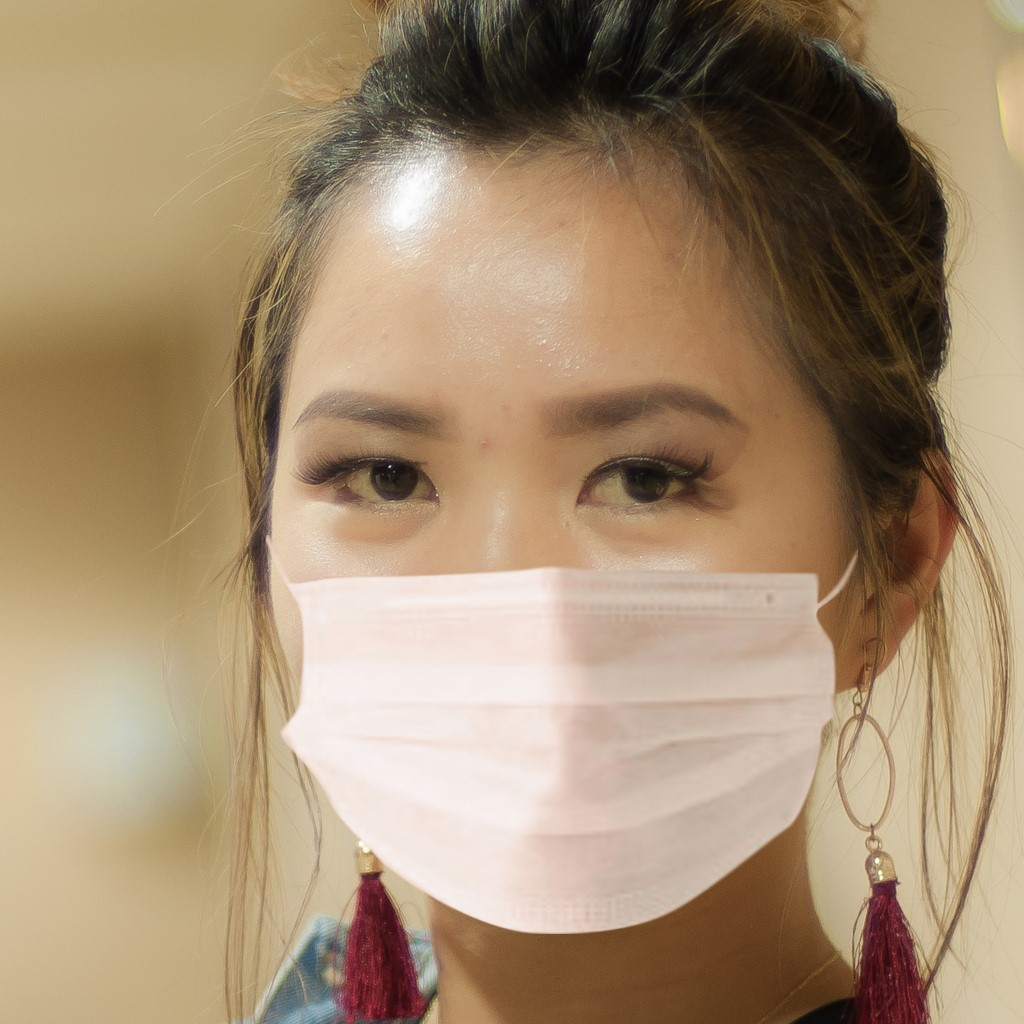con_mascara: (277, 148, 878, 925)
